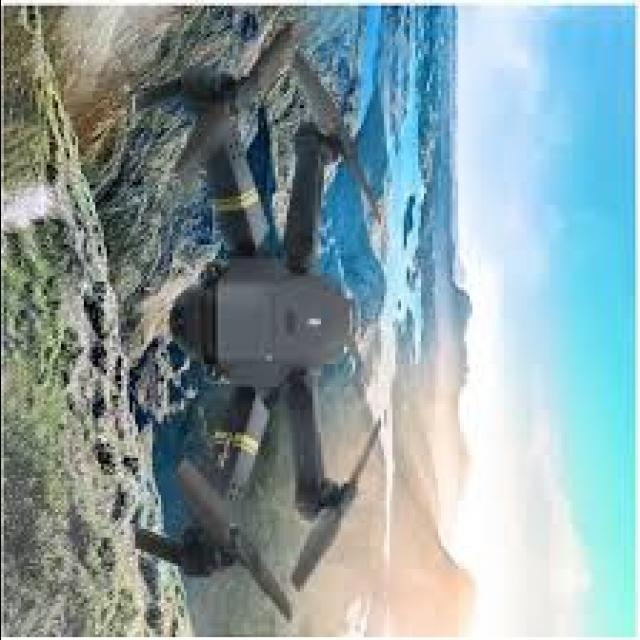drone: (96, 20, 400, 624)
